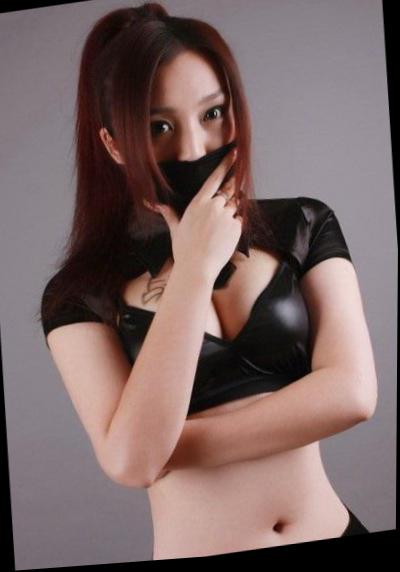WRONG: (130, 83, 261, 220)
